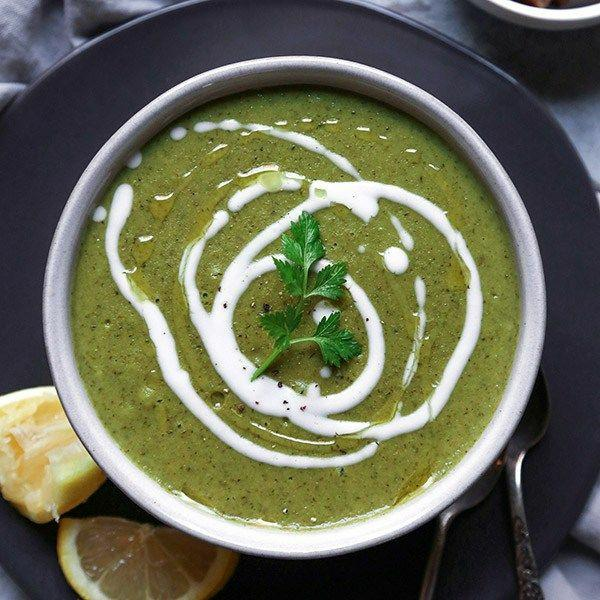PalakPaneer: (71, 90, 523, 519)
